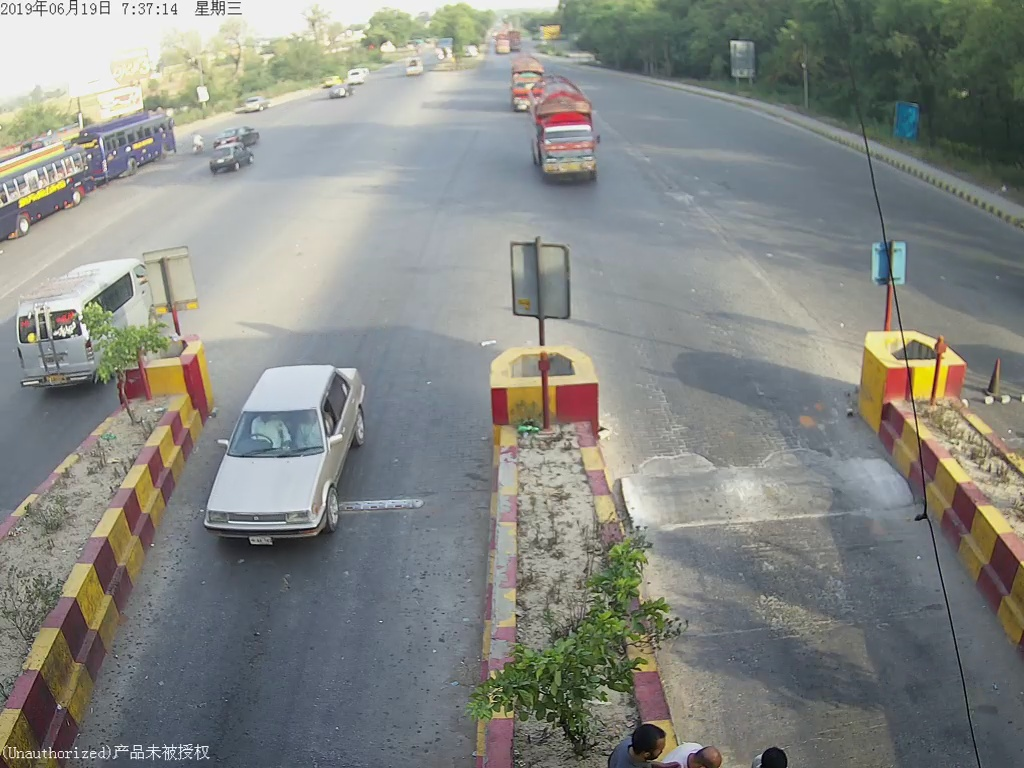Cat-1: (205, 355, 372, 545)
Cat-4: (531, 72, 607, 189), (511, 48, 547, 118)
